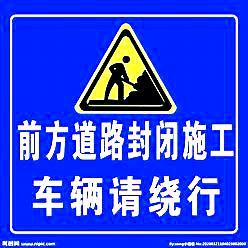sign: (6, 10, 244, 237)
